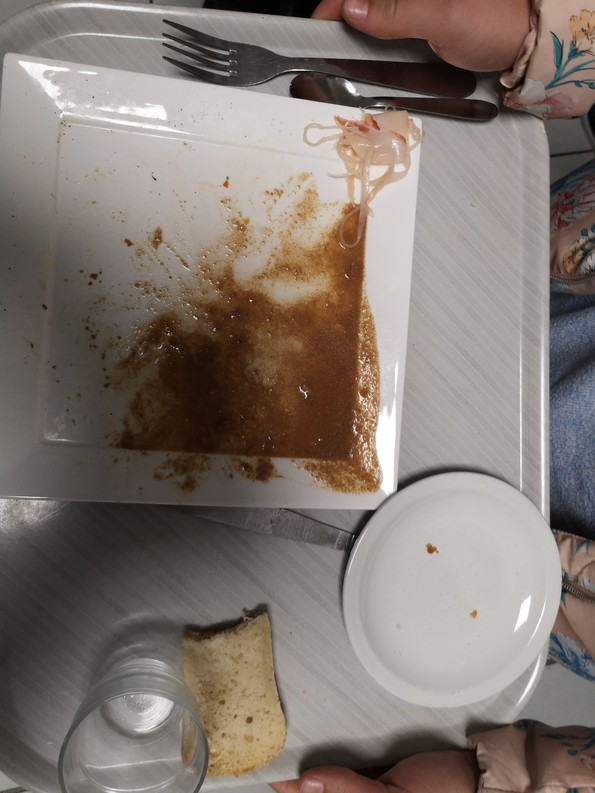cup: (67, 654, 196, 793)
cutlery: (140, 6, 501, 131)
orga: (176, 619, 304, 785), (316, 95, 417, 229)
